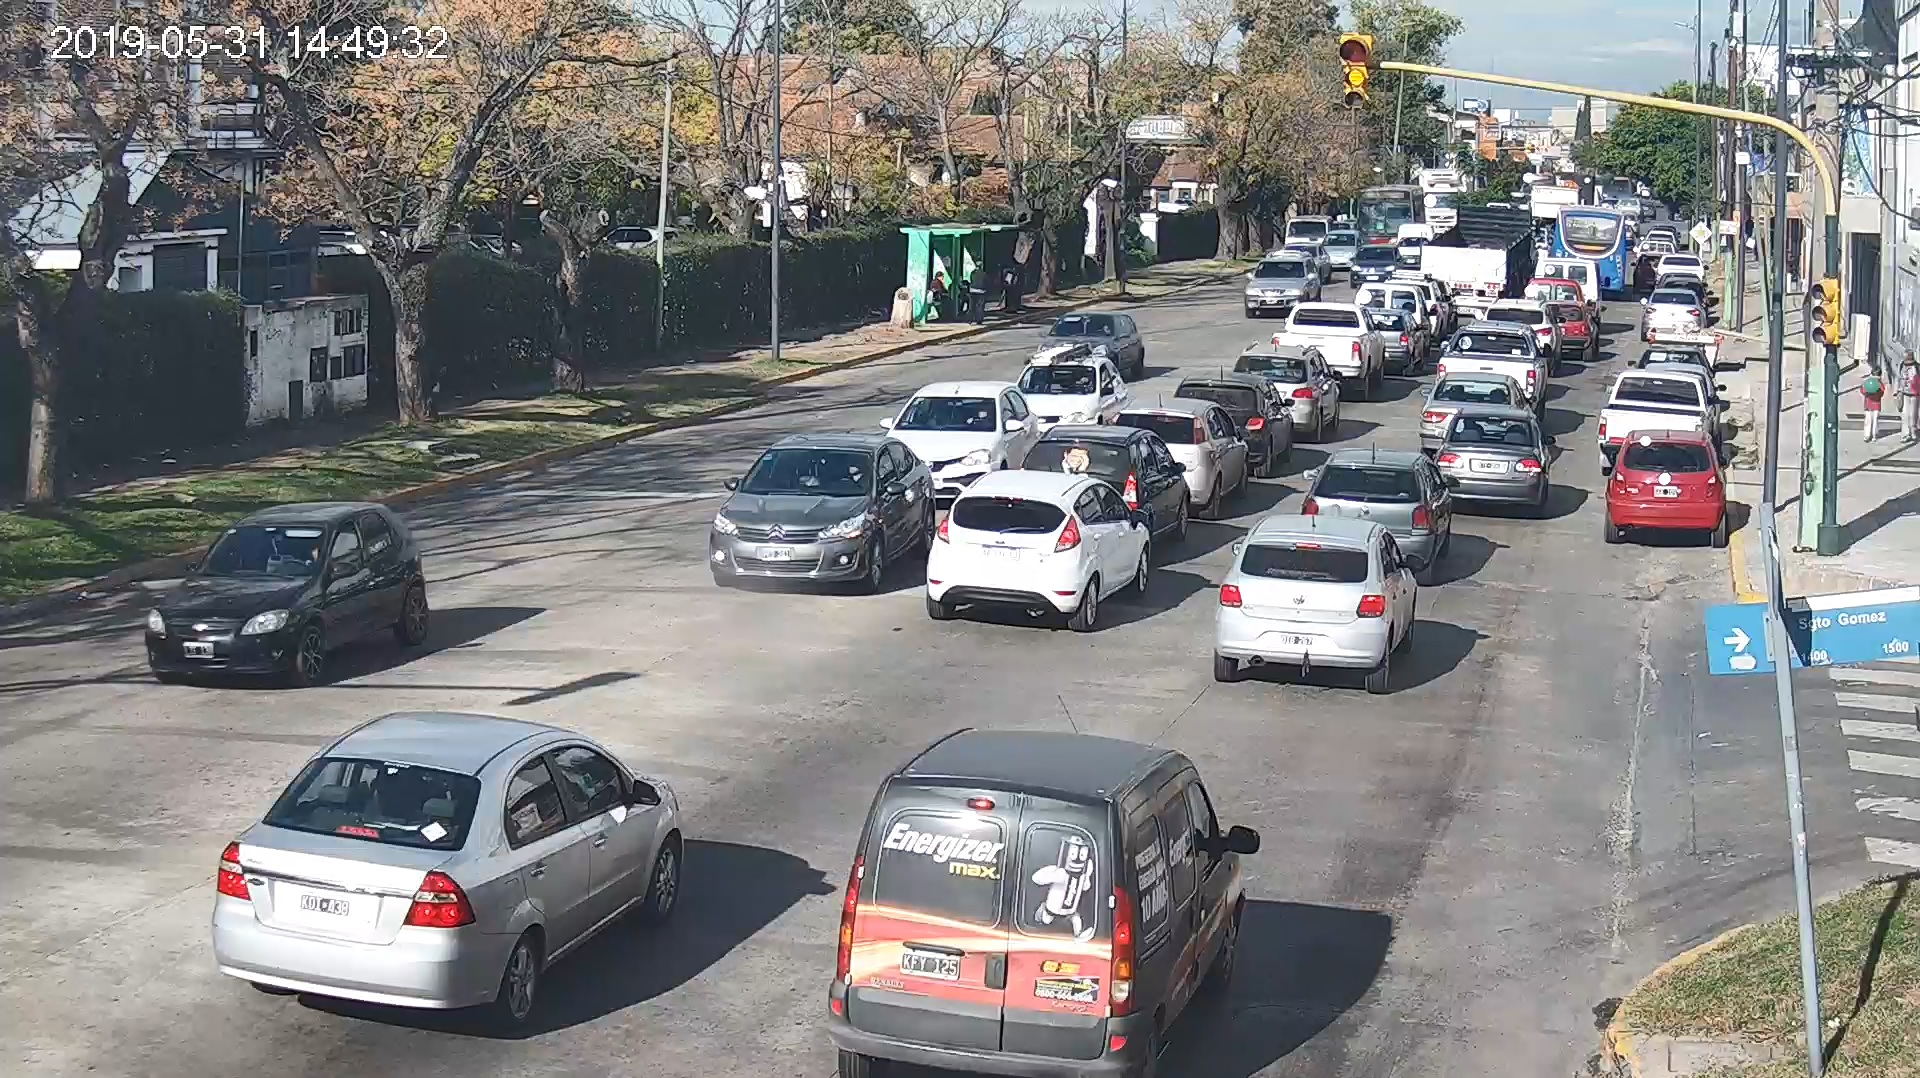car: (828, 731, 1269, 1078), (212, 709, 687, 1023), (142, 504, 435, 680), (707, 428, 935, 599), (926, 460, 1151, 633), (1216, 517, 1423, 695), (1606, 428, 1731, 549), (1433, 408, 1549, 511)
